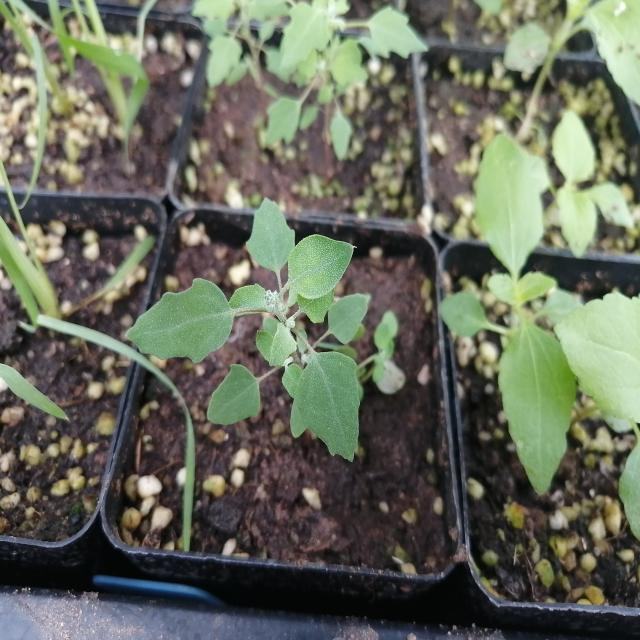goosefoots: (122, 218, 394, 452)
